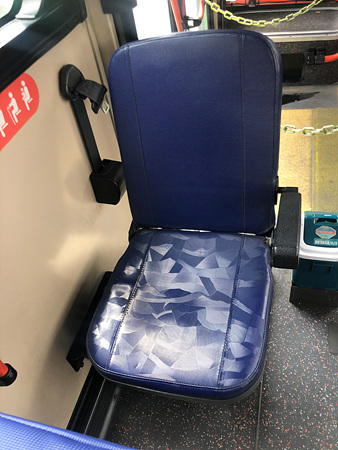seat: (85, 30, 283, 398)
